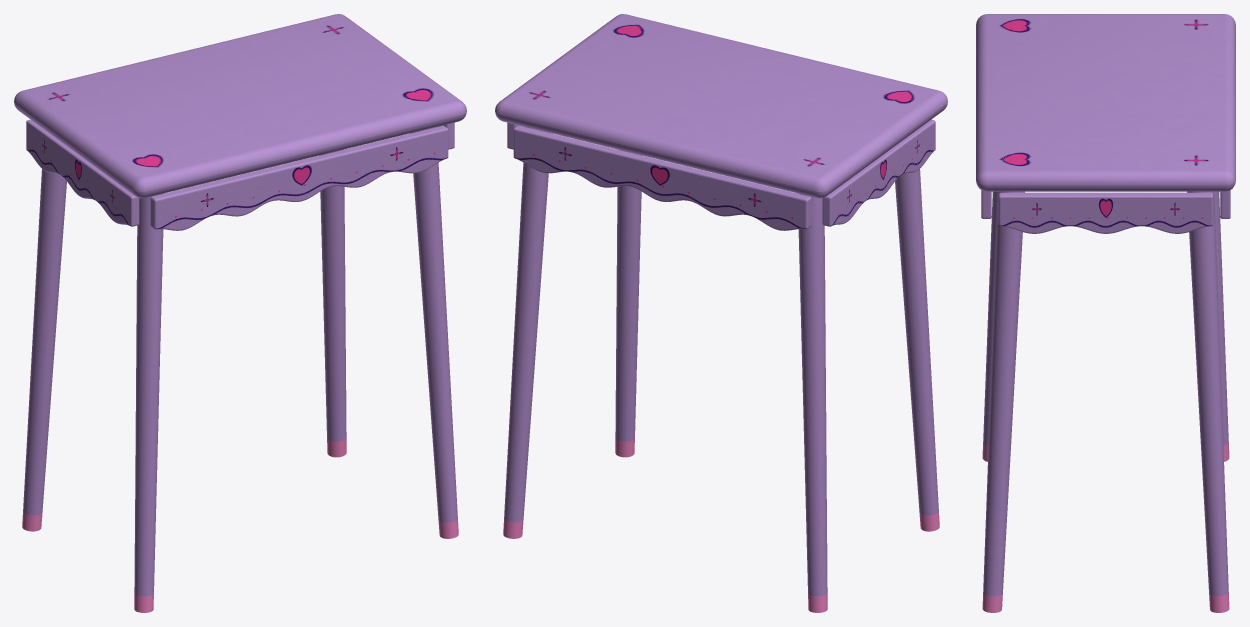
Rendered from LavenderChibiTable_600x400x750mm.fbx.
3 renders of one model, left to right at view 1: azimuth 30°, elevation 25°; view 2: azimuth 150°, elevation 25°; view 3: azimuth 270°, elevation 25°, orthographic.
Visible parts, largest first — view 1: Table_Top, Table_Apron_Front, Table_Leg_FrontLeft, Table_Leg_FrontRight, Table_Leg_BackLeft, Table_Leg_BackRight, Table_Apron_Left; view 2: Table_Top, Table_Apron_Back, Table_Leg_BackLeft, Table_Leg_BackRight, Table_Leg_FrontLeft, Table_Leg_FrontRight, Table_Apron_Left; view 3: Table_Top, Table_Leg_BackRight, Table_Leg_FrontRight, Table_Apron_Right, Table_Leg_BackLeft, Table_Leg_FrontLeft.
Part boxes in pixels (x1,y1,x2,y2): Table_Top: (14, 14, 466, 198); Table_Apron_Front: (150, 125, 448, 230); Table_Leg_FrontLeft: (134, 194, 163, 612); Table_Leg_FrontRight: (411, 127, 458, 538); Table_Leg_BackLeft: (22, 169, 66, 531); Table_Leg_BackRight: (320, 149, 346, 457); Table_Apron_Left: (26, 119, 139, 226); Table_Top: (495, 14, 947, 198); Table_Apron_Back: (513, 125, 811, 230); Table_Leg_BackLeft: (798, 194, 827, 612); Table_Leg_BackRight: (503, 127, 550, 538); Table_Leg_FrontLeft: (895, 169, 939, 531); Table_Leg_FrontRight: (615, 149, 641, 457); Table_Apron_Left: (822, 119, 935, 226); Table_Top: (976, 14, 1235, 191); Table_Leg_BackRight: (1187, 191, 1229, 612); Table_Leg_FrontRight: (982, 191, 1024, 612); Table_Apron_Right: (998, 192, 1213, 233); Table_Leg_BackLeft: (1214, 191, 1229, 461); Table_Leg_FrontLeft: (982, 191, 997, 461).
Bounding box in the file's own units: 0.6 × 0.75 × 0.4.
4 materials, 3 textured.
